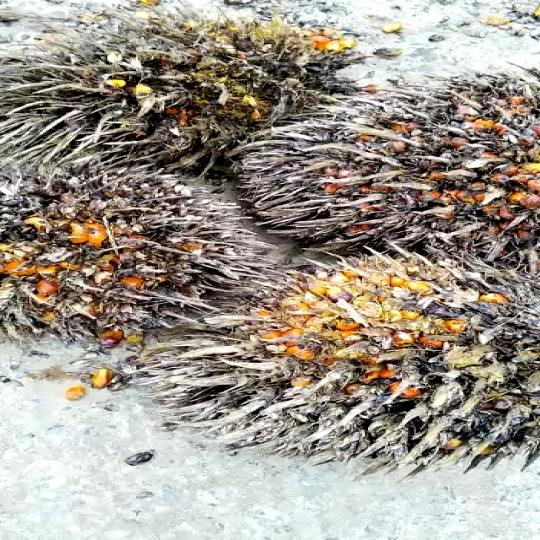terlalu masak: (116, 249, 540, 478), (241, 77, 540, 263), (0, 29, 355, 168), (0, 157, 247, 350)
